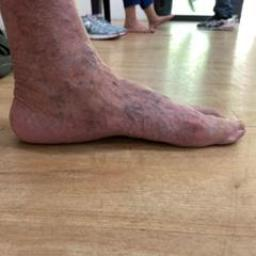Medial View -Left Foot-: (2, 20, 250, 171)
